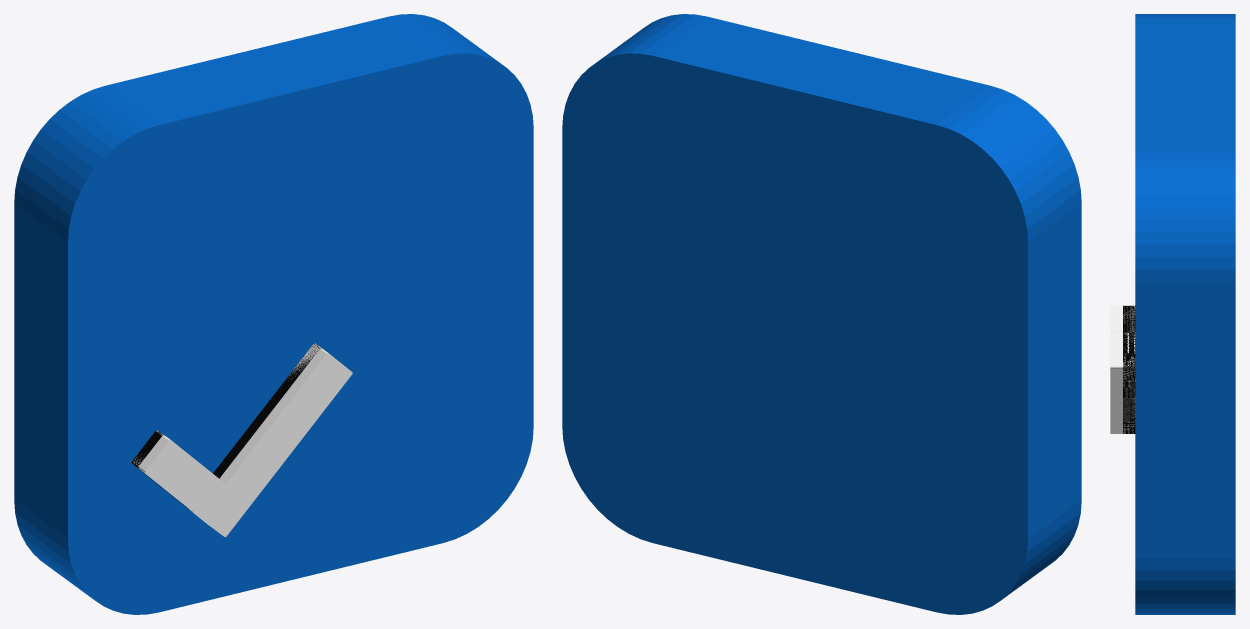
The model's file is anydo.gltf.
3 views of the same model, side by side, from view 1: azimuth 30°, elevation 25°; view 2: azimuth 150°, elevation 25°; view 3: azimuth 270°, elevation 25° (orthographic). The views are drawn at different scales.
Bounding box in the file's own units: 5 × 5 × 1.25.
